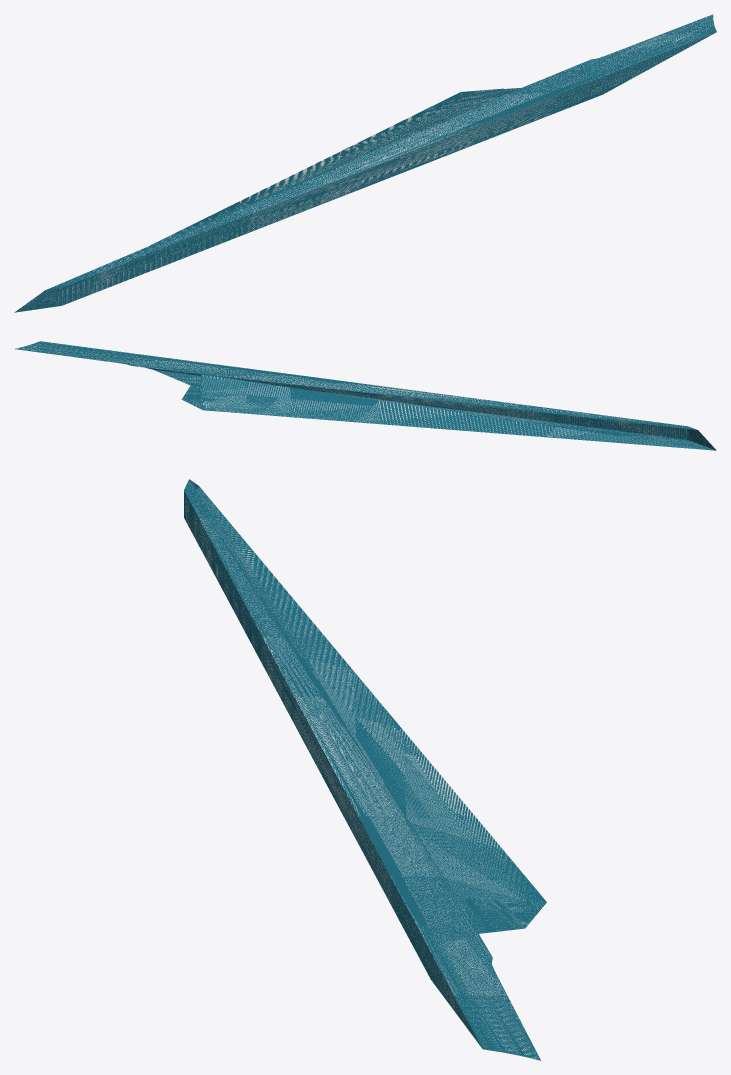
3 renders of one model, top to bottom at view 1: azimuth 30°, elevation 25°; view 2: azimuth 150°, elevation 25°; view 3: azimuth 270°, elevation 25°, orthographic. The views are drawn at different scales.
Bounding box in the file's own units: 0.8804 × 0.0187 × 0.2243.
4 materials, 2 textured.
